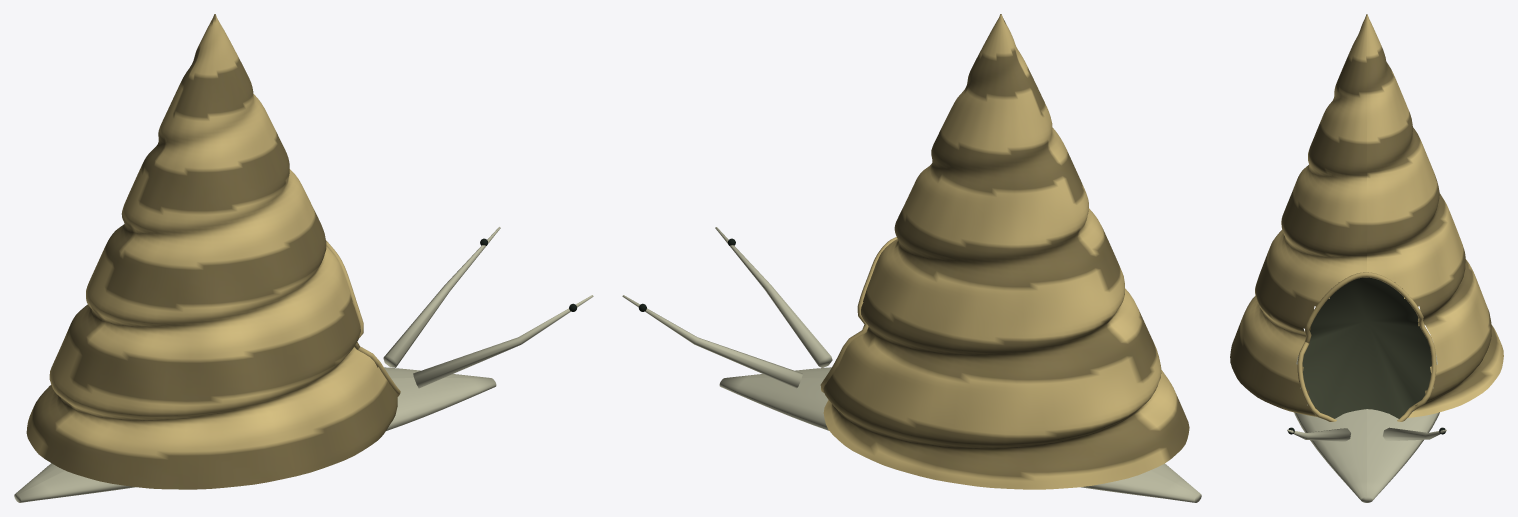
Rendered from assassin-desktop.glb.
3 views of the same model, side by side, from view 1: azimuth 30°, elevation 25°; view 2: azimuth 150°, elevation 25°; view 3: azimuth 270°, elevation 25° (orthographic). The views are drawn at different scales.
Visible parts, largest first — view 1: connected-whorled-shell, muscular-foot, cephalic-tentacle, aperture-lip; view 2: connected-whorled-shell, muscular-foot, cephalic-tentacle, aperture-lip; view 3: connected-whorled-shell, recessed-aperture, muscular-foot, aperture-lip, cephalic-tentacle.
Boxes of the visible parts, left/top/right/bottom form: connected-whorled-shell: left=26, top=14, right=397, bottom=489; muscular-foot: left=14, top=367, right=496, bottom=502; cephalic-tentacle: left=383, top=227, right=593, bottom=388; aperture-lip: left=326, top=240, right=400, bottom=396; connected-whorled-shell: left=823, top=14, right=1189, bottom=489; muscular-foot: left=719, top=367, right=1201, bottom=502; cephalic-tentacle: left=622, top=227, right=832, bottom=388; aperture-lip: left=820, top=237, right=897, bottom=392; connected-whorled-shell: left=1230, top=14, right=1503, bottom=417; recessed-aperture: left=1302, top=277, right=1431, bottom=418; muscular-foot: left=1294, top=355, right=1439, bottom=502; aperture-lip: left=1297, top=272, right=1436, bottom=421; cephalic-tentacle: left=1287, top=427, right=1446, bottom=441.
Size of the model in its own units: 0.5905 by 0.469 by 0.3115.
